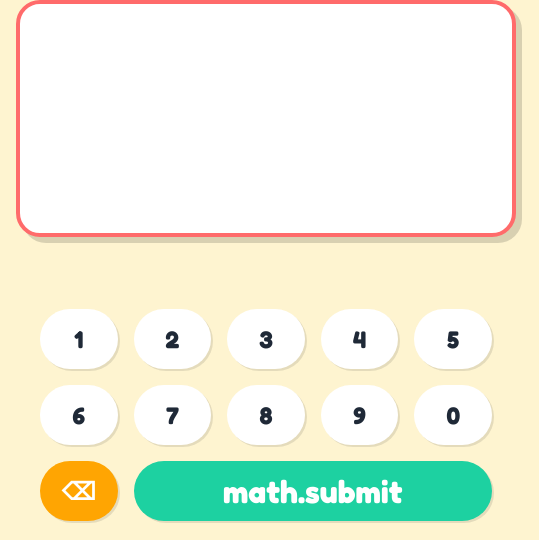
Test: MathGame › allows input via keypad
Click the button "1" at (79, 339), box [40, 309, 118, 369]
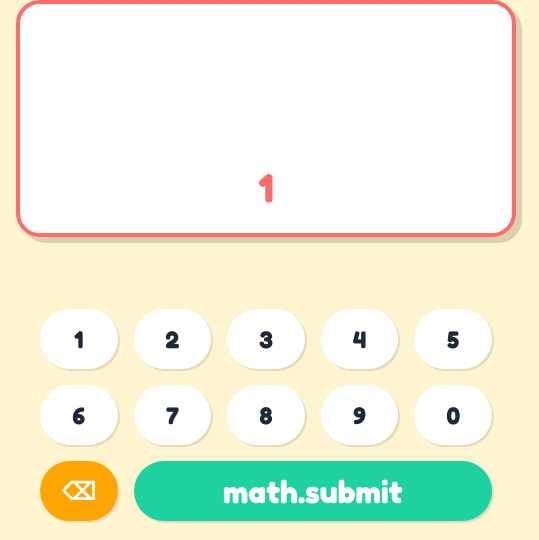
Click the button "2" at (172, 339), box [134, 309, 211, 369]
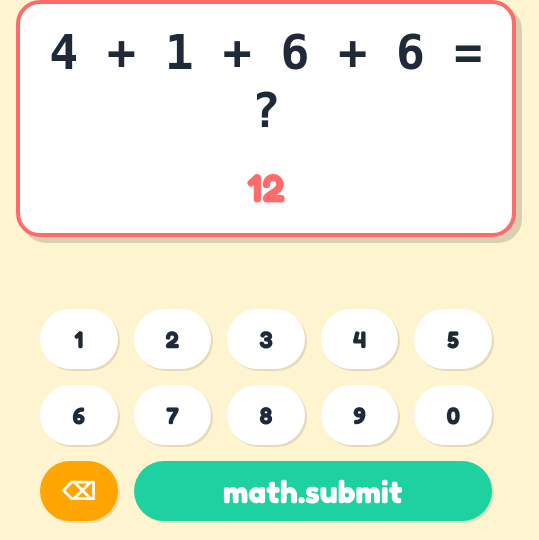
Now the text "12" is shown, box [247, 163, 285, 211]
